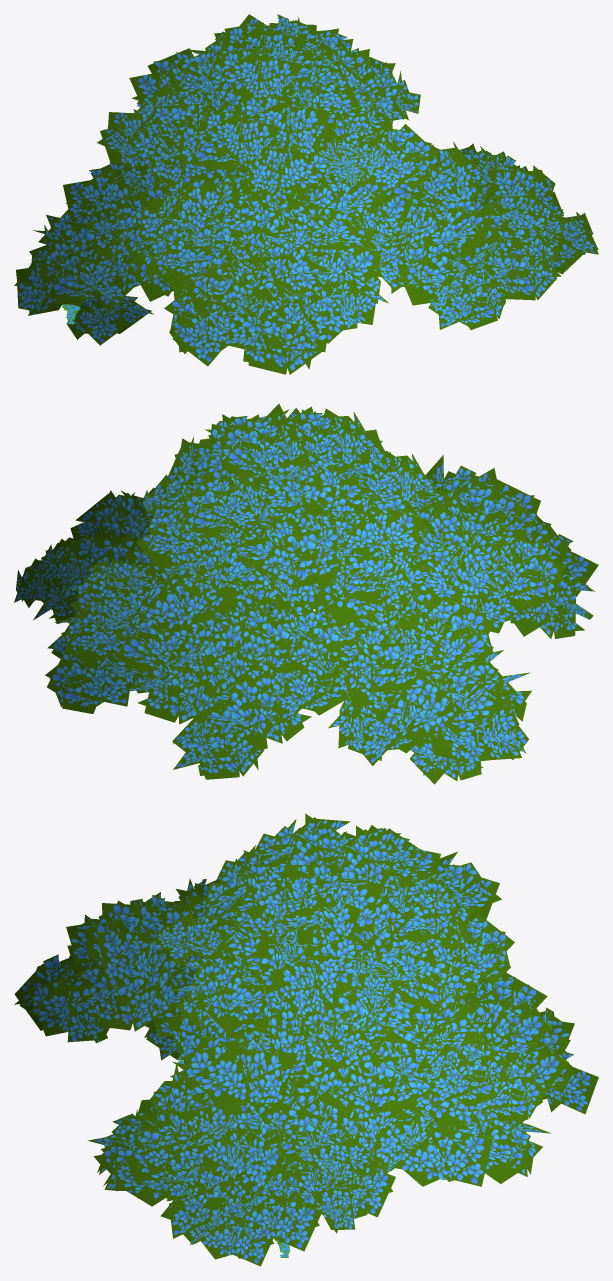
File: Homeworld_Exterior_Xm_Plant_Tree_Qqstyle_01_Leaf_Lod0.fbx
3 views of the same model, one above another, from view 1: azimuth 30°, elevation 25°; view 2: azimuth 150°, elevation 25°; view 3: azimuth 270°, elevation 25° (orthographic). The views are drawn at different scales.
Visible parts, largest first — view 1: Homeworld_Exterior_Xm_Plant_Tree_Qqstyle_01_Leaf_Lod0; view 2: Homeworld_Exterior_Xm_Plant_Tree_Qqstyle_01_Leaf_Lod0; view 3: Homeworld_Exterior_Xm_Plant_Tree_Qqstyle_01_Leaf_Lod0.
Boxes of the visible parts, bbox=[...] form: Homeworld_Exterior_Xm_Plant_Tree_Qqstyle_01_Leaf_Lod0: bbox=[14, 14, 598, 374]; Homeworld_Exterior_Xm_Plant_Tree_Qqstyle_01_Leaf_Lod0: bbox=[14, 404, 598, 784]; Homeworld_Exterior_Xm_Plant_Tree_Qqstyle_01_Leaf_Lod0: bbox=[14, 813, 598, 1266].
Bounding box in the file's own units: 17.64 × 9.29 × 15.3.
